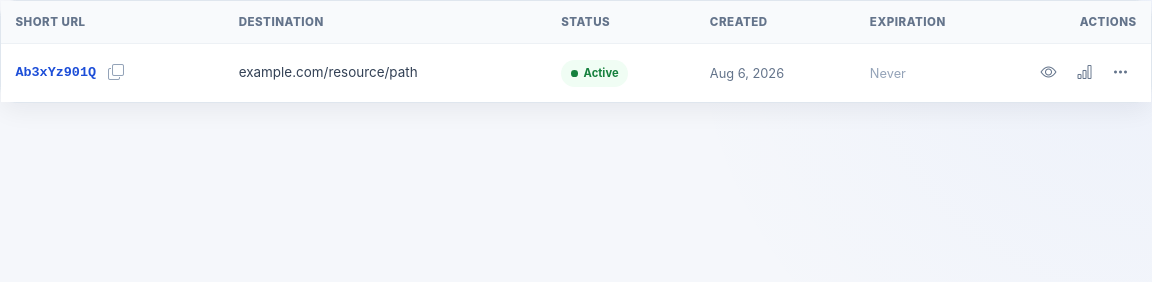
Test case: UrlTableComponent › offers disable for an active URL
The width and height of the screenshot is (1152, 282).
Click the button named "More actions for Ab3xYz901Q": (1121, 73) [1105,57,1137,89]
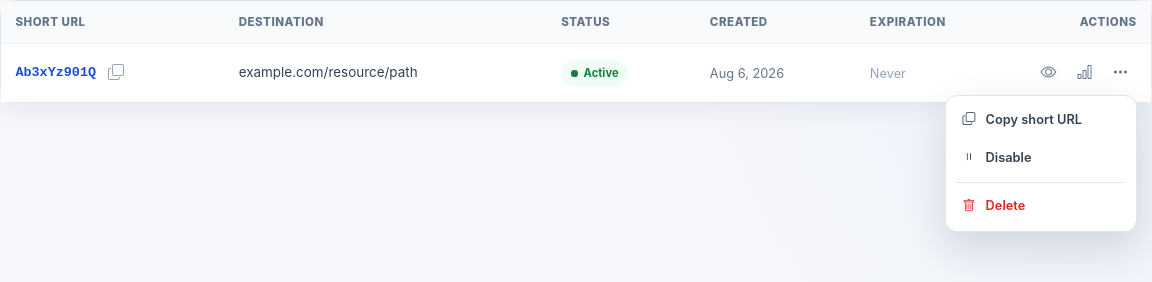
Now the button "Disable" is shown, box [951,139,1130,177]
